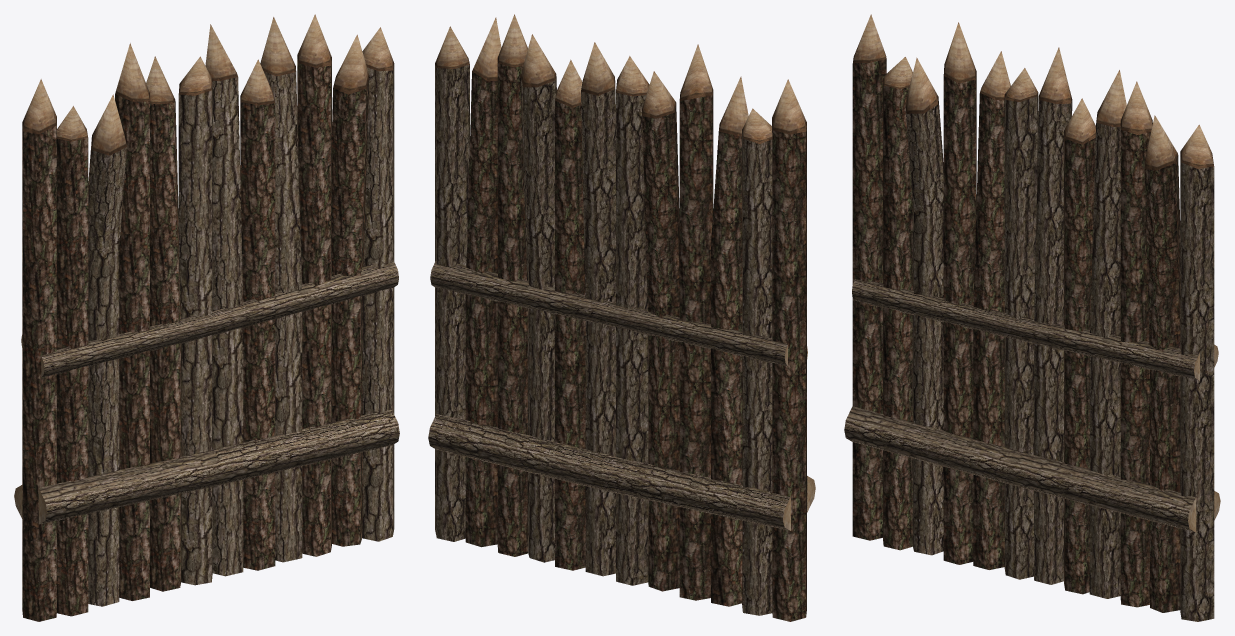
File: Palisade.dae
The picture shows the model from 3 angles, left to right: view 1: azimuth 30°, elevation 25°; view 2: azimuth 150°, elevation 25°; view 3: azimuth 330°, elevation 25°; orthographic projection. The views are drawn at different scales.
Parts seen in each view (by area): view 1: Palisade; view 2: Palisade; view 3: Palisade.
Boxes of the visible parts, x1,y1,x2,y2 form: Palisade: (14,14,399,621); Palisade: (428,14,815,621); Palisade: (844,14,1220,621).
Bounding box in the file's own units: 4.03 × 5.7 × 0.6348.
Materials: 1 (1 with a texture image).
